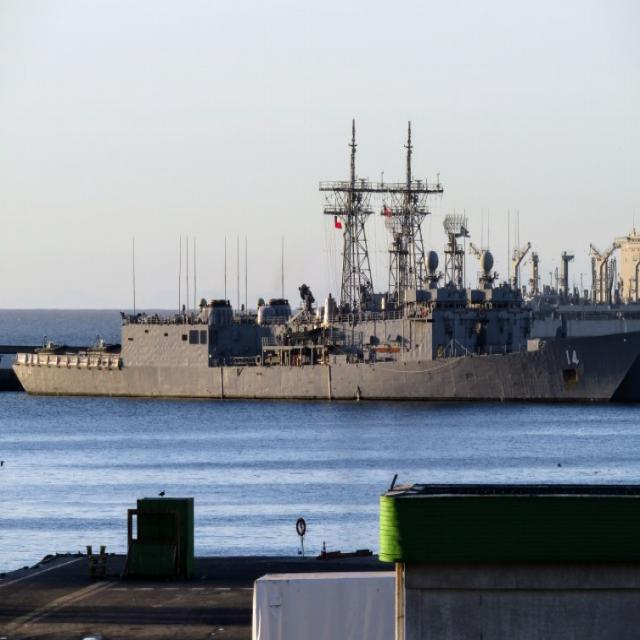Fragata: (10, 110, 640, 403)
